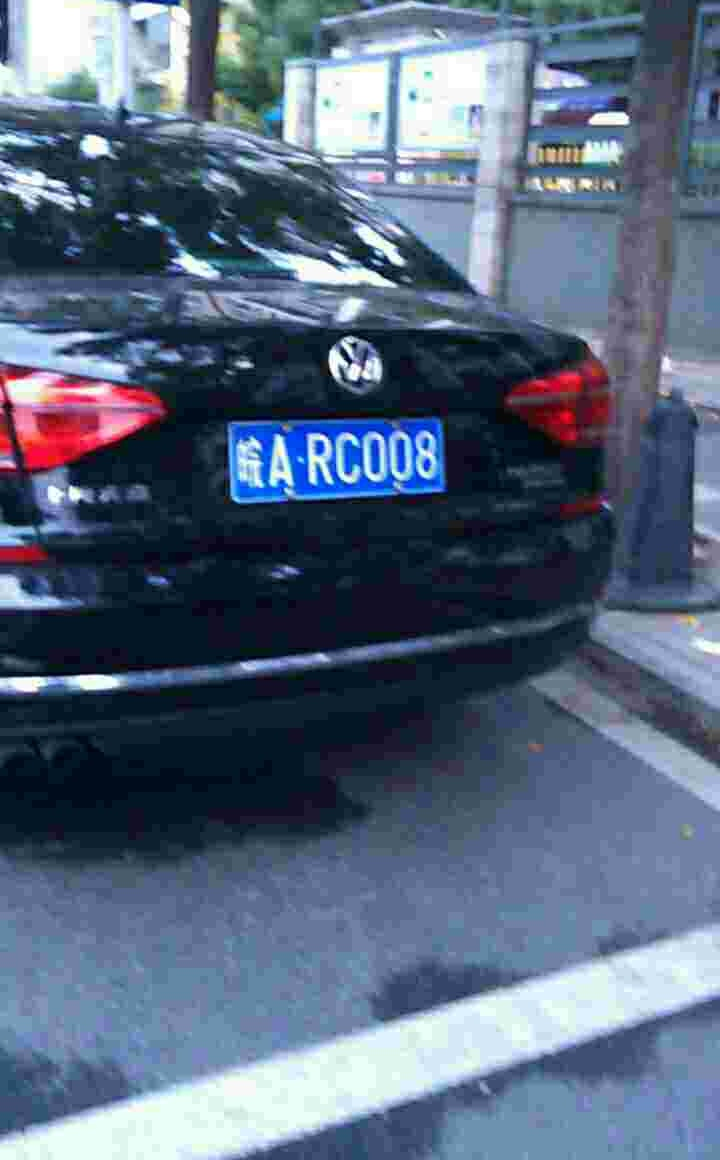plate: (238, 412, 450, 504)
